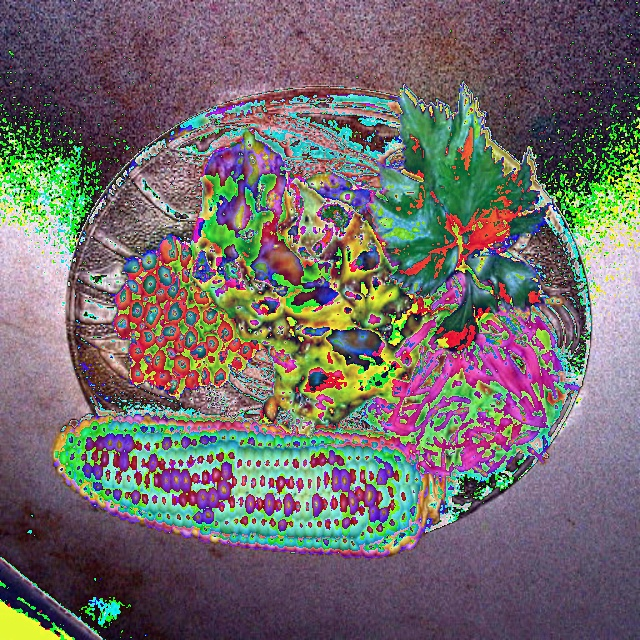background: (50, 84, 579, 561)
